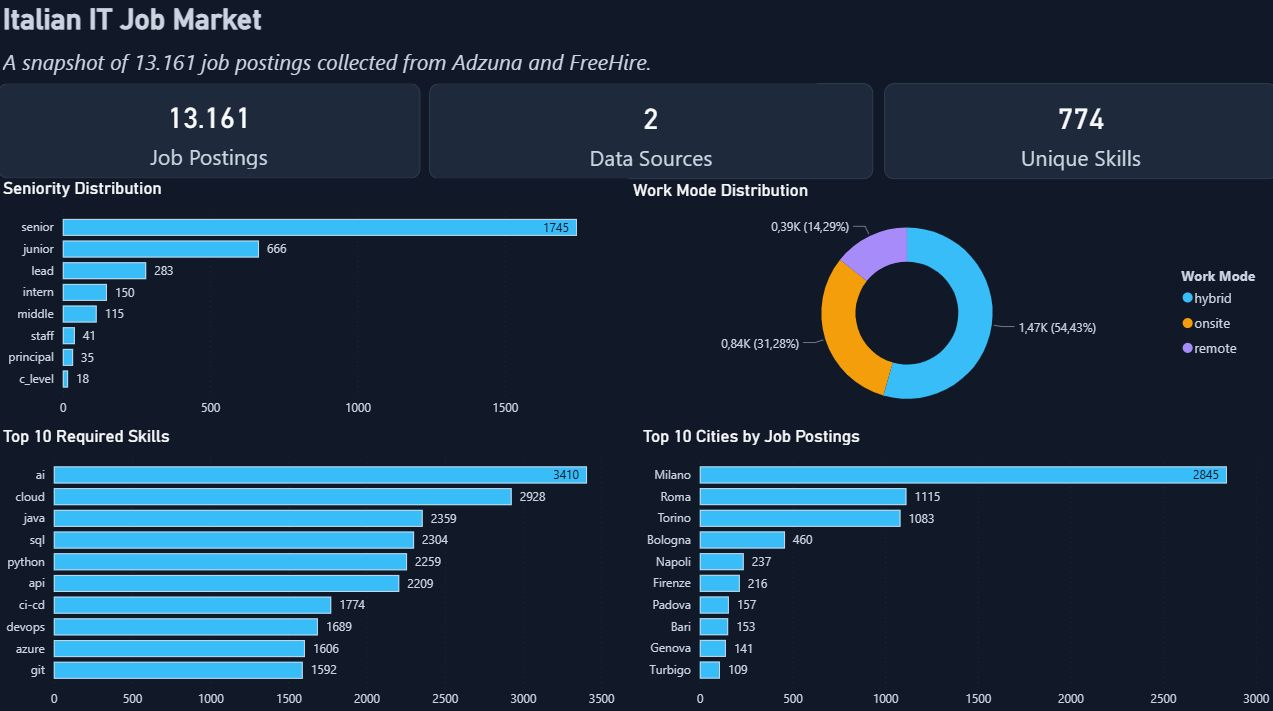

What the dashboard file says about the page in this screenshot:
{"tool":"powerbi","page":{"name":"Overview","canvas":[1280,720],"ordinal":0},"visuals":[{"type":"card","fields":{"Values":["jobs.Total jobs"]},"box":[0,86.2,422.5,95],"z":0},{"type":"card","fields":{"Values":["job_skills.Unique Skills"]},"box":[886.2,86.2,393.8,96.2],"z":1000},{"type":"card","fields":{"Values":["jobs.Data Sources"]},"box":[431.2,86.2,443.8,96.2],"z":2000},{"type":"barChart","title":"Top 10 Cities by Job Postings","fields":{"Category":["jobs.city"],"Y":["jobs.Total jobs"]},"box":[639.5,429.2,640.8,291],"z":3000},{"type":"barChart","title":"Top 10 Required Skills","fields":{"Y":["job_skills.Jobs with Skill"],"Category":["skills.skill_name"]},"box":[0,428.8,640,291.2],"z":4000},{"type":"barChart","title":"Seniority Distribution","fields":{"Category":["jobs.seniority"],"Y":["jobs.Total jobs"]},"box":[0,181.2,630,247.5],"z":5000},{"type":"donutChart","title":"Work Mode Distribution","fields":{"Category":["jobs.work_mode"],"Y":["jobs.Total jobs"]},"box":[629.8,182.2,650.3,248.5],"z":6000},{"type":"textbox","box":[0,0,356.2,45],"z":7000},{"type":"textbox","box":[0,45,818.8,41.2],"z":8000}]}

Visuals, with their boxes in screenshot pixels (x1, y1, x2, y2), scaled from the page's 1280x720 canvas onto the 1273x711 screenshot:
card - jobs.Total jobs: crop(0, 85, 420, 179)
card - job_skills.Unique Skills: crop(881, 85, 1272, 180)
card - jobs.Data Sources: crop(429, 85, 870, 180)
"Top 10 Cities by Job Postings" barChart: crop(636, 424, 1272, 710)
"Top 10 Required Skills" barChart: crop(0, 423, 636, 710)
"Seniority Distribution" barChart: crop(0, 179, 627, 423)
"Work Mode Distribution" donutChart: crop(626, 180, 1272, 425)
textbox: crop(0, 0, 354, 44)
textbox: crop(0, 44, 814, 85)
